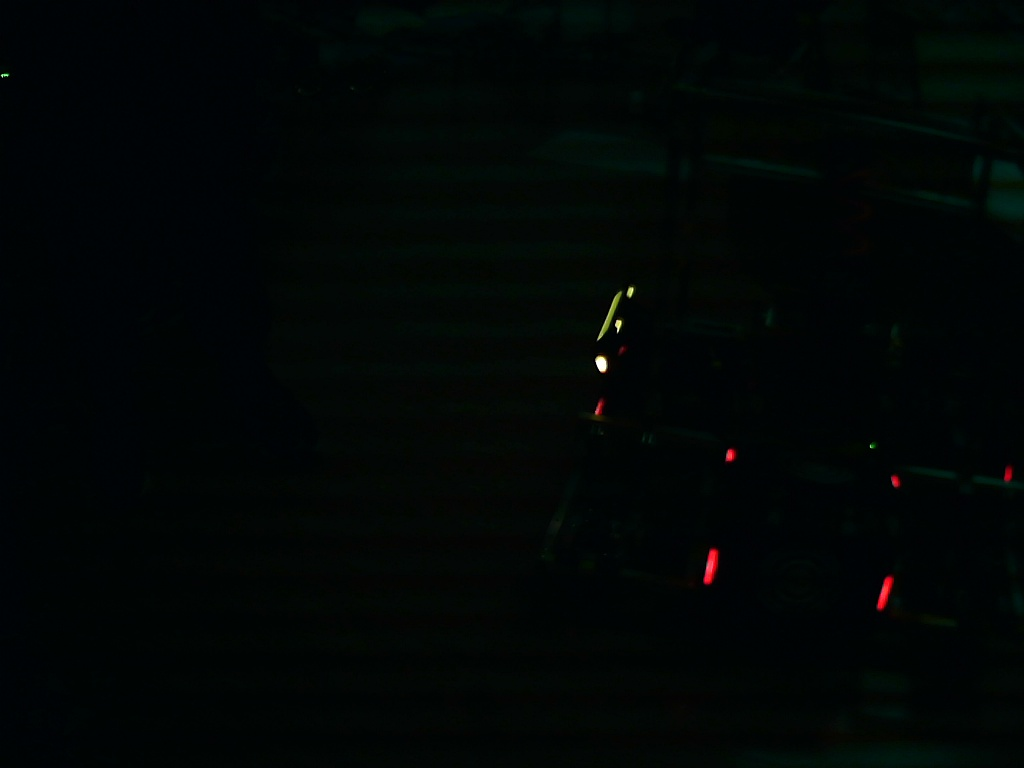lamp: (873, 573, 897, 613), (701, 545, 722, 588)
